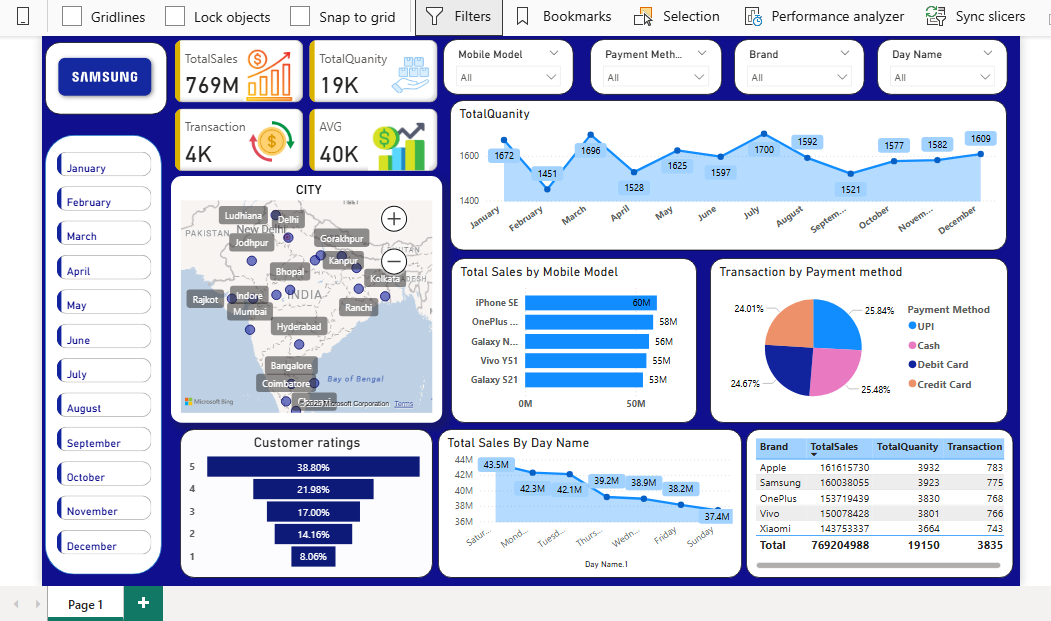

What the dashboard file says about the page in this screenshot:
{"tool":"powerbi","page":{"name":"Page 1","canvas":[1280,720],"ordinal":0},"visuals":[{"type":"image","box":[4.1,8.3,159.7,95],"z":0},{"type":"shape","box":[4.1,129.4,152.8,575.3],"z":1000},{"type":"advancedSlicerVisual","fields":{"Values":["Mobile_Sales.Date.Variation.Date Hierarchy.Month"]},"box":[13.8,147.3,134.9,538.2],"z":2000},{"type":"cardVisual","fields":{"Data":["Mobile_Sales.TotalSales","Mobile_Sales.TotalQuanity","Mobile_Sales.Transaction","Mobile_Sales.AVG"]},"box":[169.3,0,355.1,183.1],"z":3000},{"type":"map","title":"CITY","fields":{"Category":["Mobile_Sales.City"]},"box":[169.3,183.1,355.1,323.4],"z":4000},{"type":"lineChart","title":"TotalQuanity ","fields":{"Y":["Mobile_Sales.TotalQuanity"],"Category":["Mobile_Sales.Date.Variation.Date Hierarchy.Month","Mobile_Sales.Date.Variation.Date Hierarchy.Day"]},"box":[534,84,729.5,196.8],"z":5000},{"type":"barChart","title":"Total Sales by Mobile Model","fields":{"Category":["Mobile_Sales.Mobile Model"],"Y":["Mobile_Sales.TotalSales"]},"box":[535.4,290.4,322.1,216.1],"z":6000},{"type":"pieChart","title":"Transaction by Payment method","fields":{"Category":["Mobile_Sales.Payment Method"],"Y":["Mobile_Sales.Transaction"]},"box":[874,290.4,389.5,216.1],"z":7000},{"type":"areaChart","title":"Total Sales By Day Name","fields":{"Category":["Mobile_Sales.Day Name.1"],"Y":["Mobile_Sales.TotalSales"]},"box":[518.4,514.5,398,195.1],"z":8000},{"type":"tableEx","fields":{"Values":["Mobile_Sales.Brand","Mobile_Sales.TotalSales","Mobile_Sales.TotalQuanity","Mobile_Sales.Transaction"]},"box":[921.6,514.5,349.5,195.1],"z":9000},{"type":"slicer","fields":{"Values":["Mobile_Sales.Mobile Model"]},"box":[524.9,3.9,171.5,73.3],"z":10000},{"type":"slicer","fields":{"Values":["Mobile_Sales.Payment Method"]},"box":[717.4,3.9,172.8,73.3],"z":11000},{"type":"slicer","fields":{"Values":["Mobile_Sales.Brand"]},"box":[905.9,3.9,171.5,73.3],"z":12000},{"type":"slicer","fields":{"Values":["Mobile_Sales.Day Name.1"]},"box":[1093.1,3.9,171.5,73.3],"z":13000},{"type":"funnel","title":"Customer ratings","fields":{"Y":["Sum(Mobile_Sales.Customer Ratings)"],"Category":["Mobile_Sales.Customer Ratings"]},"box":[181.3,514.8,330.7,195.1],"z":14000}]}

Visuals, with their boxes in screenshot pixels (x1, y1, x2, y2):
image: box(33, 37, 158, 111)
shape: box(33, 131, 153, 581)
advancedSlicerVisual - Mobile_Sales.Date.Variation.Date Hierarchy.Month: box(41, 145, 146, 566)
cardVisual - Mobile_Sales.TotalSales x Mobile_Sales.TotalQuanity: box(162, 30, 440, 173)
"CITY" map: box(162, 173, 440, 426)
"TotalQuanity " lineChart: box(447, 96, 1017, 249)
"Total Sales by Mobile Model" barChart: box(448, 257, 700, 426)
"Transaction by Payment method" pieChart: box(713, 257, 1017, 426)
"Total Sales By Day Name" areaChart: box(435, 432, 746, 584)
tableEx - Mobile_Sales.Brand x Mobile_Sales.TotalSales: box(750, 432, 1023, 584)
slicer - Mobile_Sales.Mobile Model: box(440, 33, 574, 90)
slicer - Mobile_Sales.Payment Method: box(590, 33, 725, 90)
slicer - Mobile_Sales.Brand: box(738, 33, 872, 90)
slicer - Mobile_Sales.Day Name.1: box(884, 33, 1018, 90)
"Customer ratings" funnel: box(172, 432, 430, 585)
